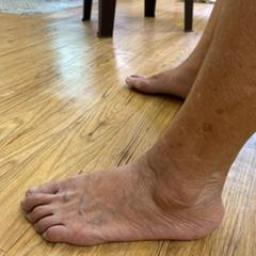Lateral View -Left Foot-: (7, 94, 255, 253)
